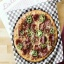pizza: (13, 11, 59, 58)
